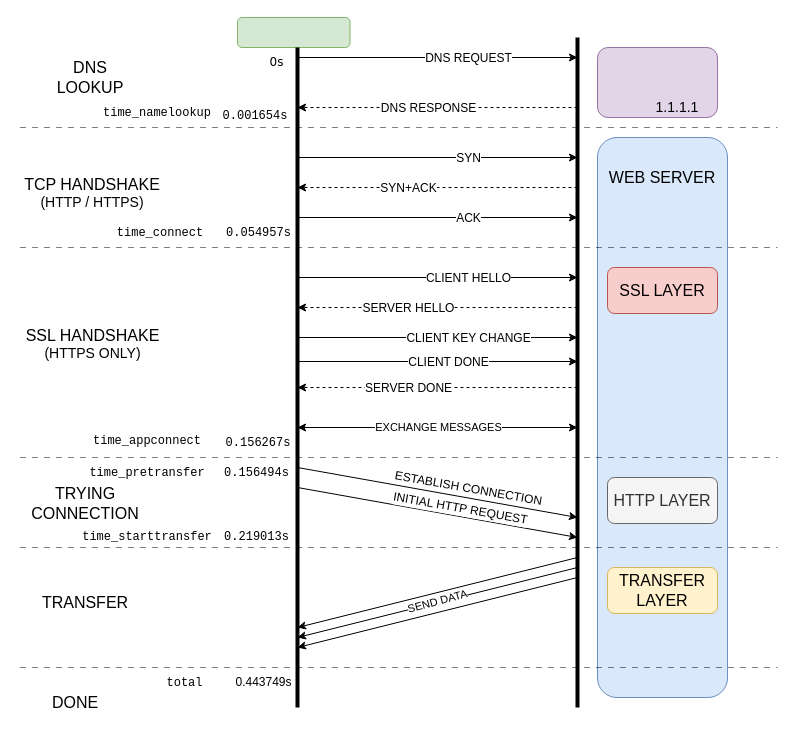
Image size: 796x735. Some labels were removed from this diagram. The shapes that lost their labels are listed below. From the top down, each one's box as (x1, y1, x2, y2) in pixels, then its label:
(236, 16, 350, 48): CLIENT
(596, 46, 718, 118): DNS SERVER
